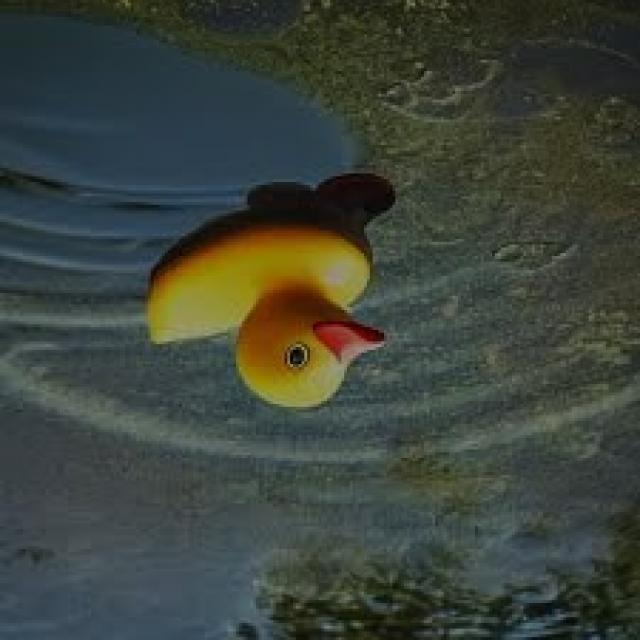rubber-duck: (147, 223, 382, 405)
